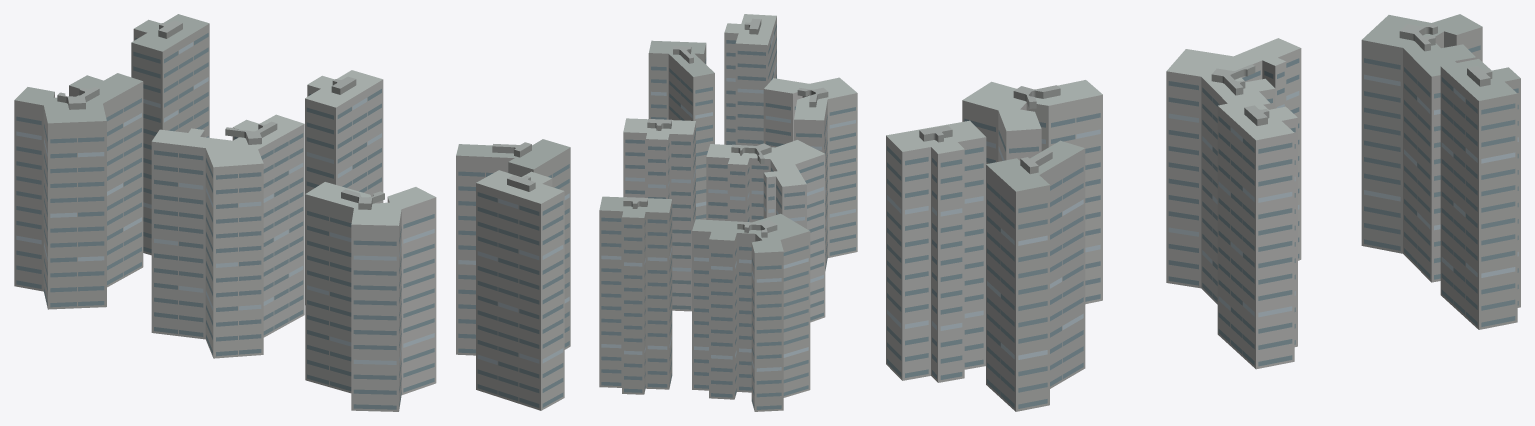
The model's file is apt-a10026004.glb.
3 views of the same model, side by side, from view 1: azimuth 30°, elevation 25°; view 2: azimuth 150°, elevation 25°; view 3: azimuth 270°, elevation 25° (orthographic). The views are drawn at different scales.
Parts seen in each view (by area): view 1: apt-a10026004; view 2: apt-a10026004; view 3: apt-a10026004.
Boxes of the visible parts, bbox=[...] form: apt-a10026004: bbox=[14, 14, 570, 411]; apt-a10026004: bbox=[599, 14, 857, 411]; apt-a10026004: bbox=[886, 14, 1520, 411].
Size of the model in its own units: 143 by 82 by 200.
